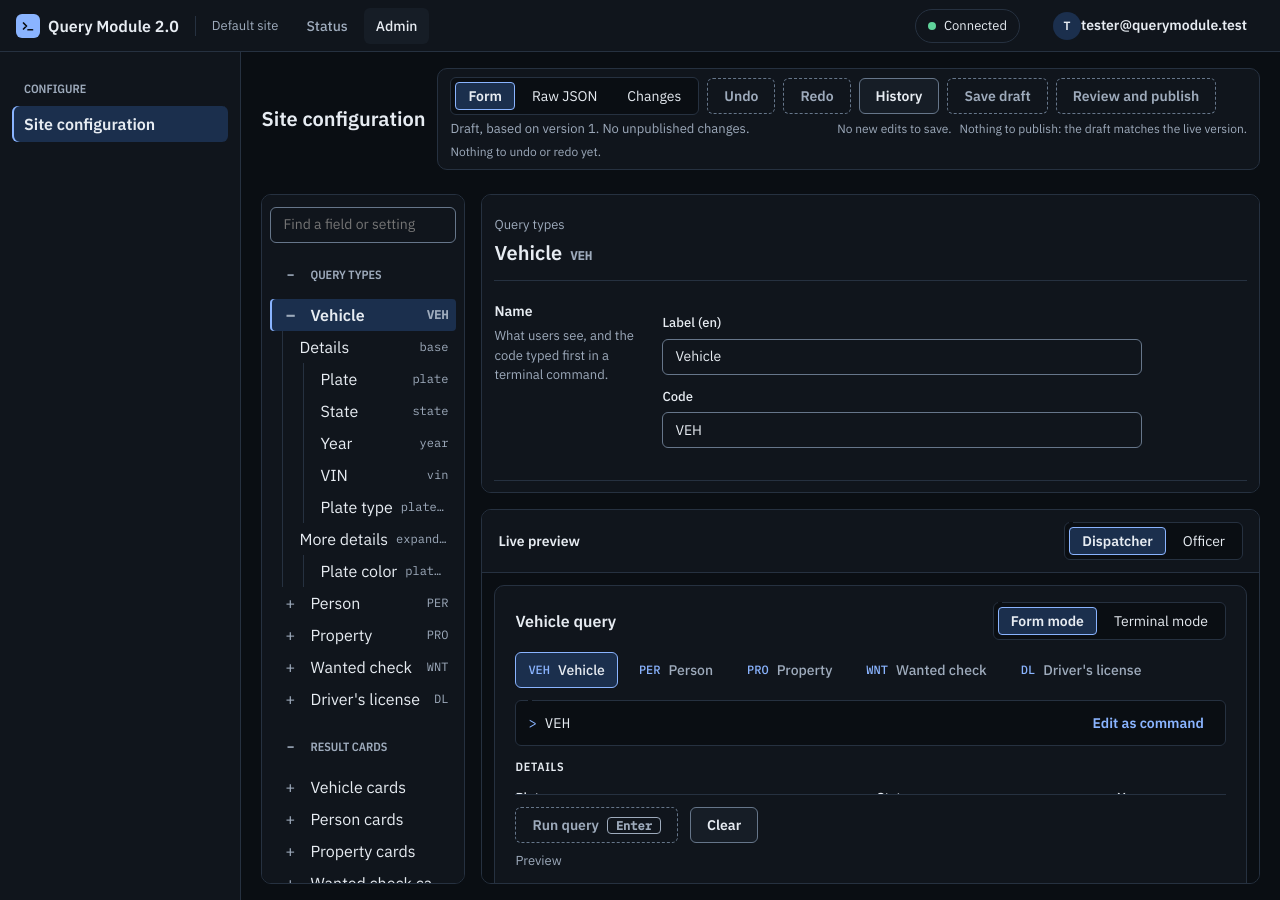
Test case: the Result cards group › opens the card editor with its key, position and the camel-cased label key prefix
expect the tab "Form" is shown: met, box [456,82,515,110]
What coordinates should you click on to do the following:
click the list item "Vehicle cards"
I would click on:
 (342, 786)
Its box is [278,774,406,798].
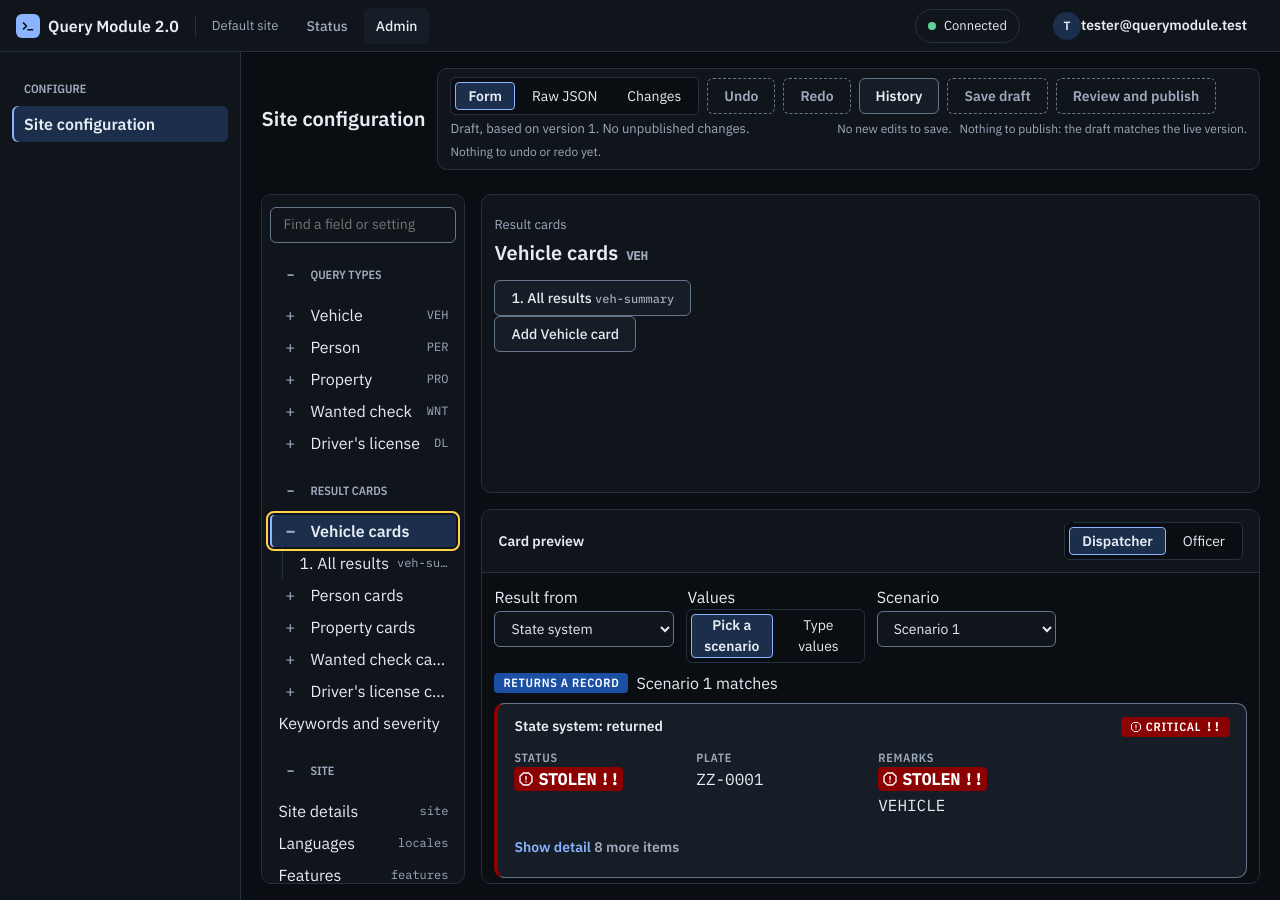
What coordinates should you click on to do the following:
click the list item "1. All results veh-summary" below "DL"
I would click on:
 (374, 562)
Its box is [291,546,456,578].
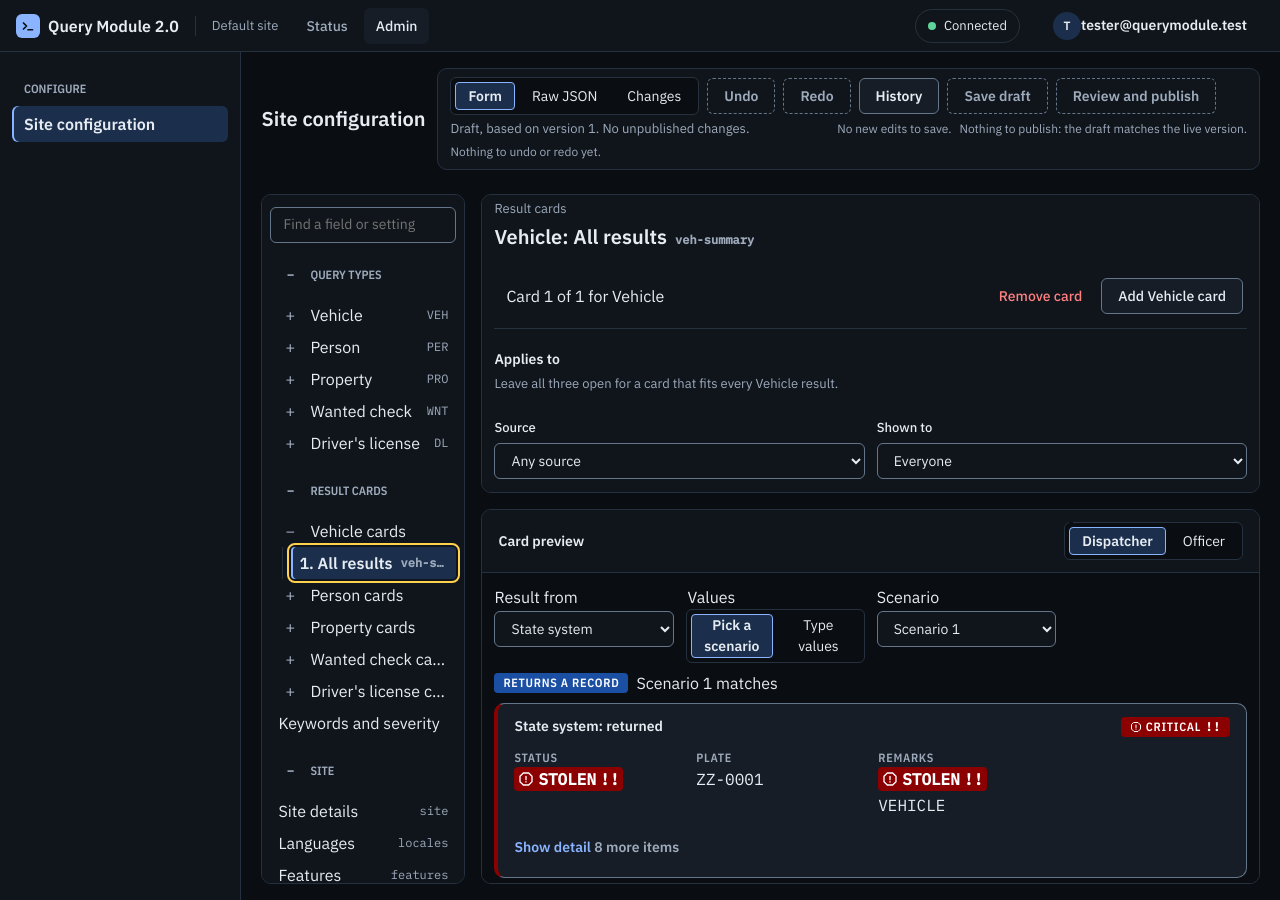
expect the text "Card 1 of 1 for Vehicle" is shown: met, box [506,284,664,308]
